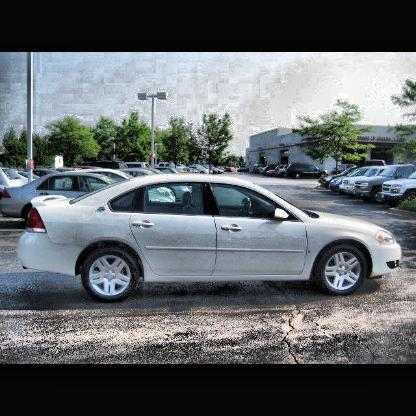Chevrolet Impala Sedan 2007: (17, 175, 401, 303)
